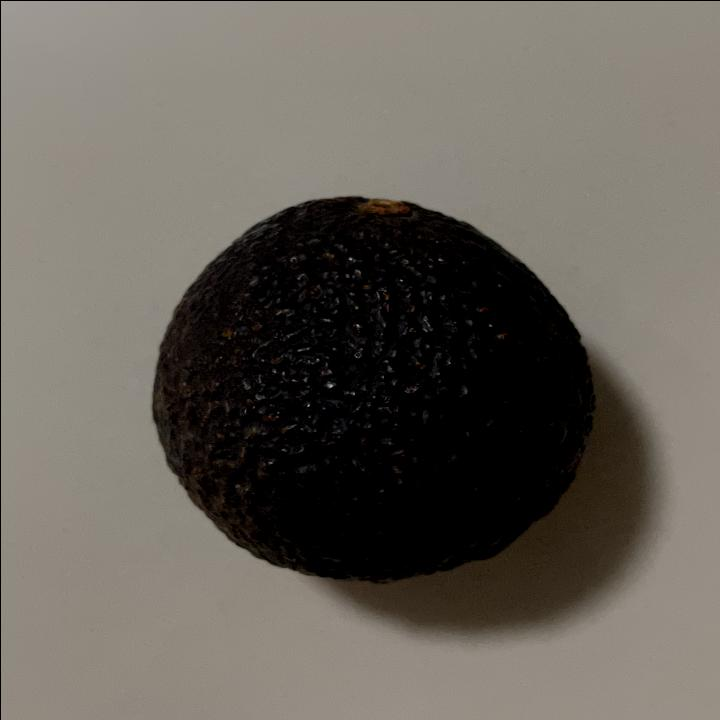Level2: (139, 185, 606, 590)
